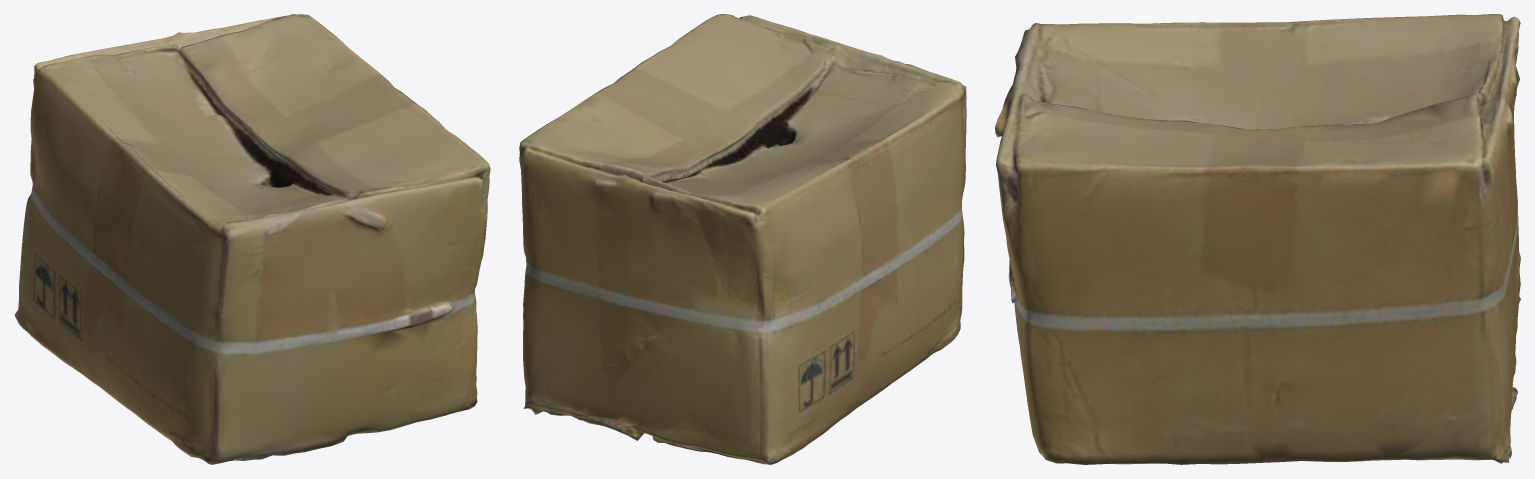
Rendered from cardboard-box.glb.
3 renders of one model, left to right at view 1: azimuth 30°, elevation 25°; view 2: azimuth 150°, elevation 25°; view 3: azimuth 270°, elevation 25°, orthographic. The views are drawn at different scales.
Parts seen in each view (by area): view 1: cardboard_box_01; view 2: cardboard_box_01; view 3: cardboard_box_01.
Boxes of the visible parts, x1=… form: cardboard_box_01: x1=14, y1=14, x2=490, y2=464; cardboard_box_01: x1=519, y1=14, x2=966, y2=464; cardboard_box_01: x1=995, y1=14, x2=1520, y2=464.
Size of the model in its own units: 0.387 by 0.3418 by 0.5159.
Materials: 1 (1 with a texture image).
